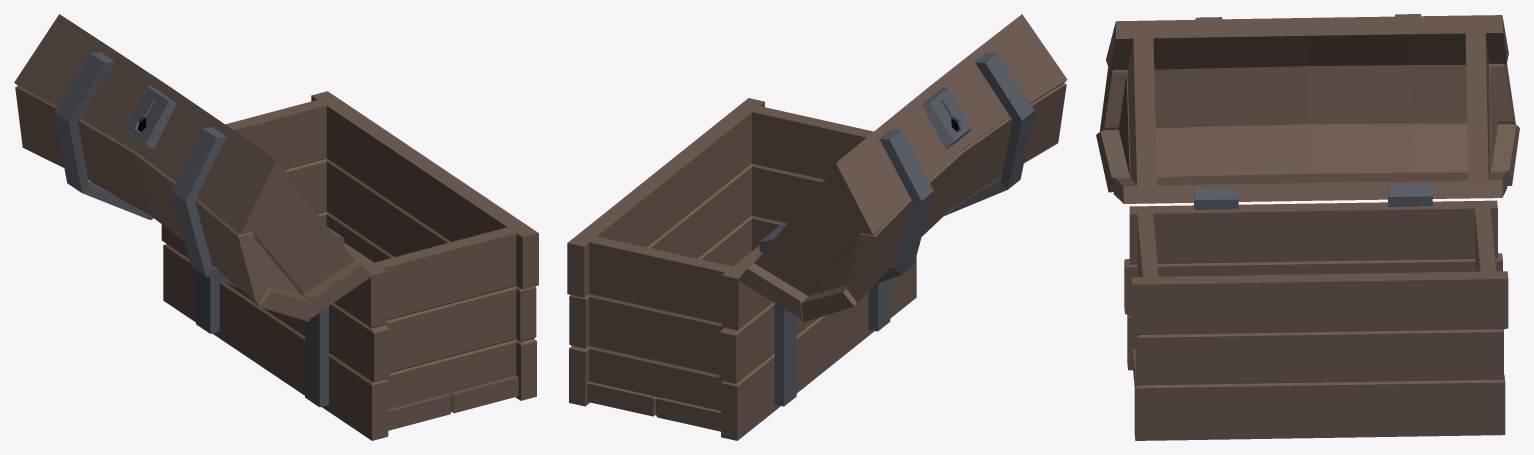
Rendered from OpenChest.fbx.
3 views of the same model, side by side, from view 1: azimuth 30°, elevation 25°; view 2: azimuth 150°, elevation 25°; view 3: azimuth 270°, elevation 25° (orthographic). The views are drawn at different scales.
Visible parts, largest first — view 1: OpenChest; view 2: OpenChest; view 3: OpenChest.
Boxes of the visible parts, x1,y1,x2,y2 form: OpenChest: [14, 14, 538, 440]; OpenChest: [567, 14, 1067, 440]; OpenChest: [1096, 14, 1519, 440].
Size of the model in its own units: 0.8334 by 0.9752 by 0.7489.
